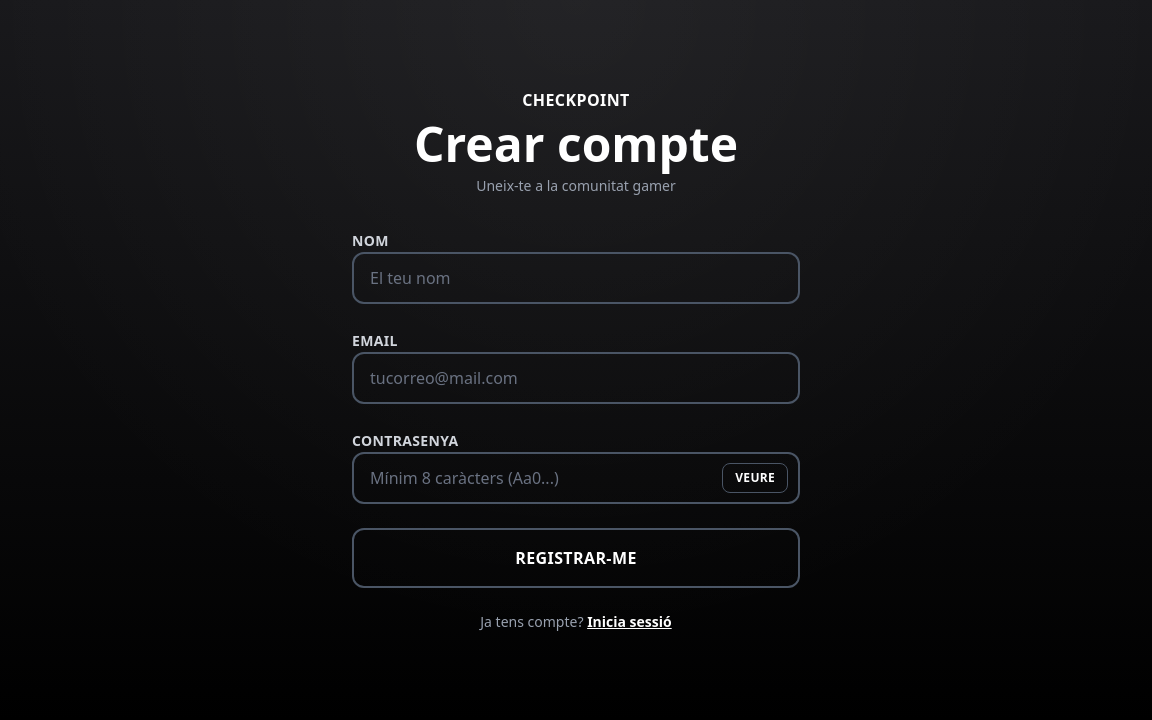
Register.vue › shows validation error for weak password
In the field with placeholder "El teu nom": (576, 278) left=352, top=252, right=800, bottom=304, type "Test User"
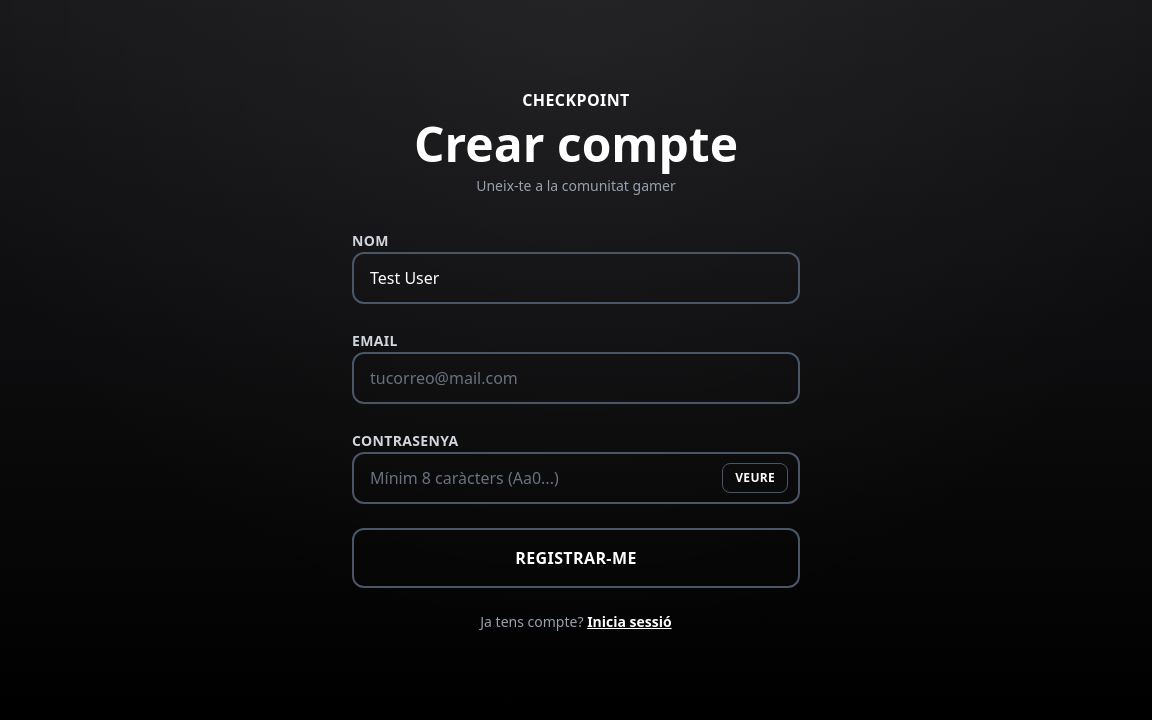
In the field with placeholder "tucorreo@mail.com": (576, 378) left=352, top=352, right=800, bottom=404, type "test@test.com"
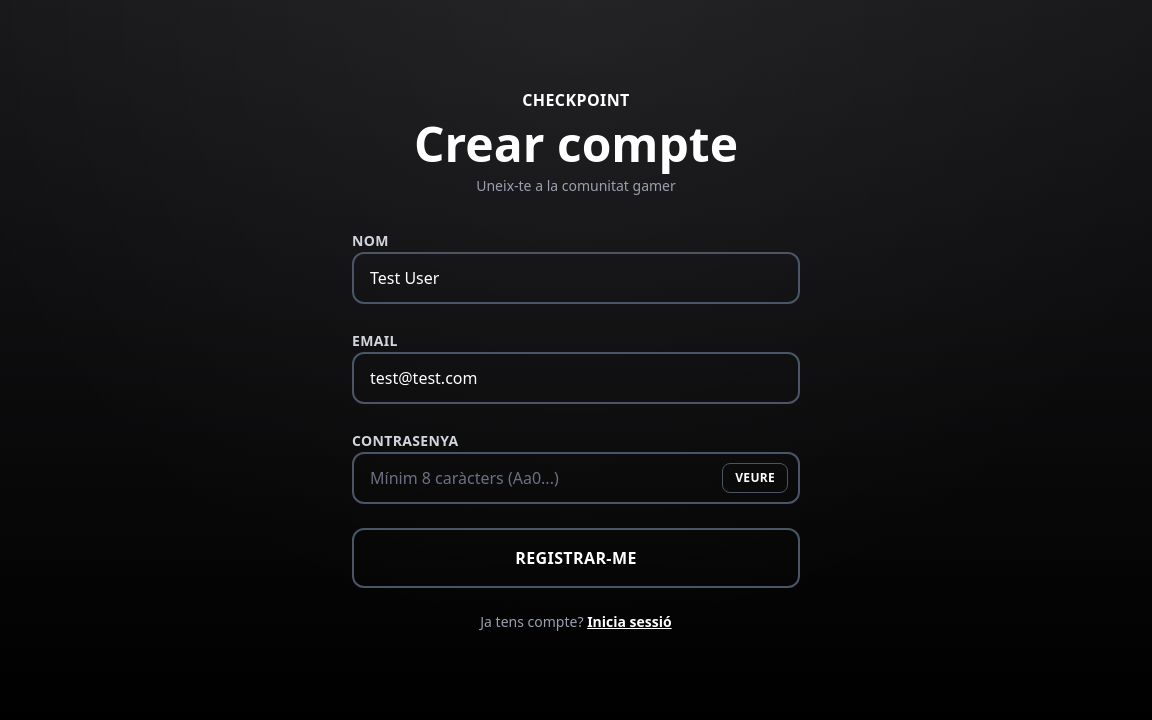
In the password field labelled "Contrasenya Veure": (576, 478) left=352, top=452, right=800, bottom=504, type "weak"
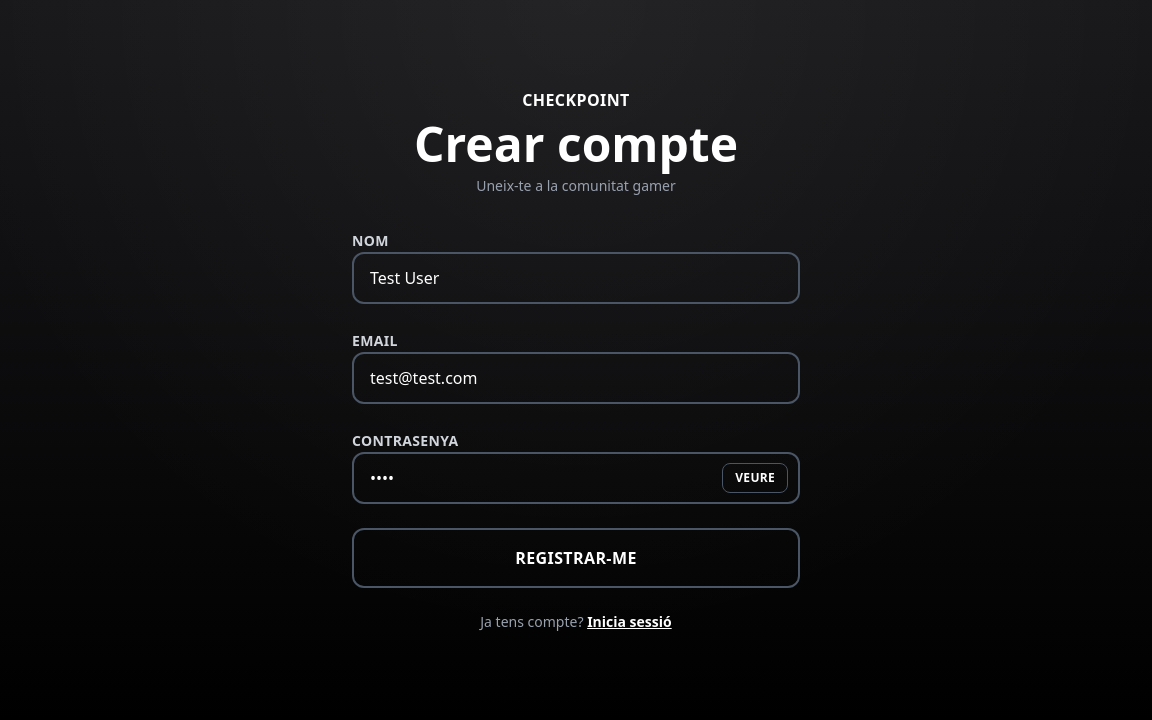
Submit the form, box left=352, top=228, right=800, bottom=632
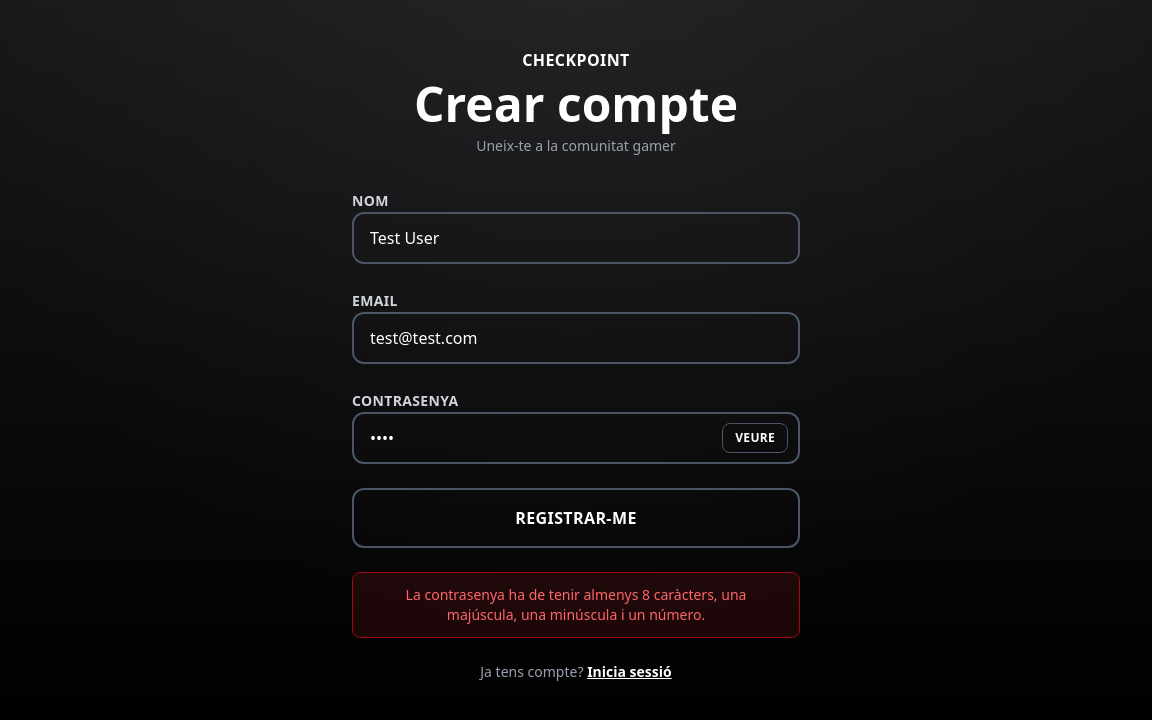
Result: the text "La contrasenya ha de tenir almenys 8 caràcters, una majúscula, una minúscula i un número." is shown at left=406, top=585, right=746, bottom=624
